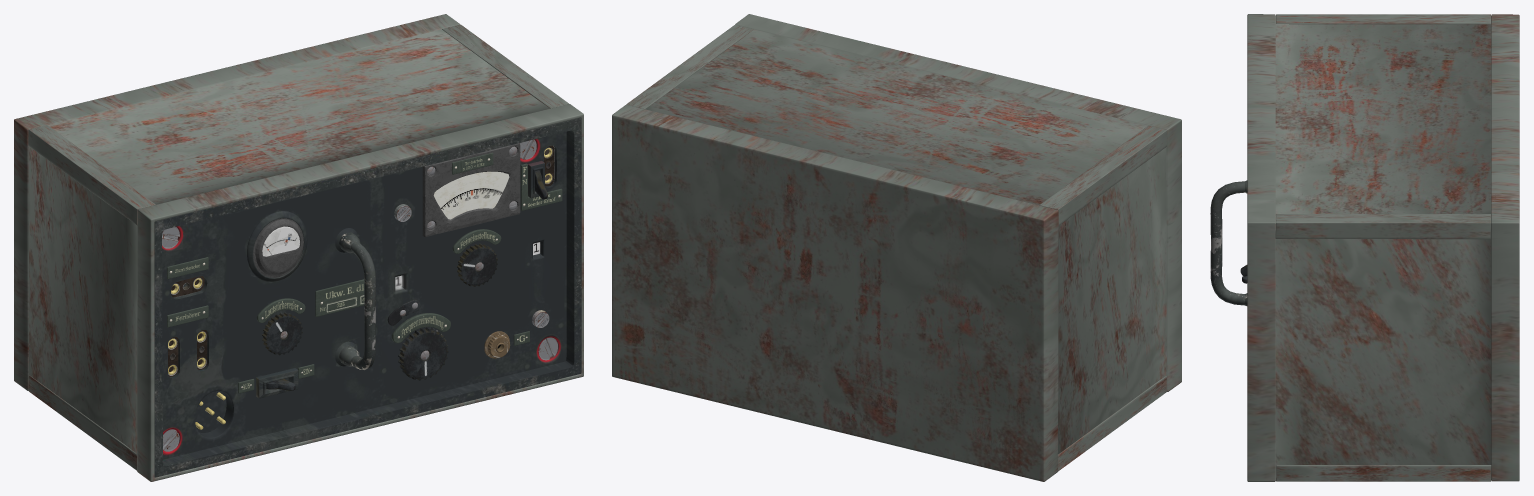
File: Radio.fbx
3 renders of one model, left to right at view 1: azimuth 30°, elevation 25°; view 2: azimuth 150°, elevation 25°; view 3: azimuth 270°, elevation 25°, orthographic.
Visible parts, largest first — view 1: Shell_Box, radio_base, gague_low001, Box004, handle_low, gear3_low, Gauge_1_low, sign011, gear2_low, gear1_low, plug_low, gearsign005 (+5 smaller); view 2: Shell_Box; view 3: Shell_Box, handle_low.
Part boxes in pixels (bbox=[...]): Shell_Box: bbox=[14, 14, 583, 481]; radio_base: bbox=[154, 118, 581, 477]; gague_low001: bbox=[422, 143, 520, 237]; Box004: bbox=[433, 171, 509, 219]; handle_low: bbox=[339, 232, 375, 370]; gear3_low: bbox=[398, 327, 448, 380]; Gauge_1_low: bbox=[253, 218, 303, 277]; sign011: bbox=[315, 279, 364, 316]; gear2_low: bbox=[457, 243, 497, 286]; gear1_low: bbox=[262, 312, 302, 355]; plug_low: bbox=[195, 390, 226, 432]; gearsign005: bbox=[391, 313, 450, 343]; Shell_Box: bbox=[612, 14, 1181, 481]; Shell_Box: bbox=[1247, 14, 1519, 481]; handle_low: bbox=[1210, 180, 1247, 305].
Bounding box in the file's own units: 15202 × 8815 × 9505.
Materials: 2 (2 with a texture image).
